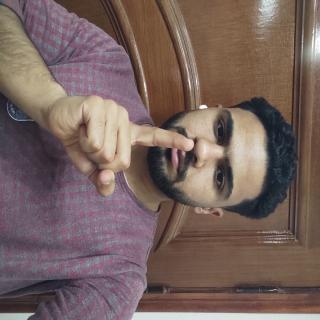RAA: (64, 166, 150, 320)
